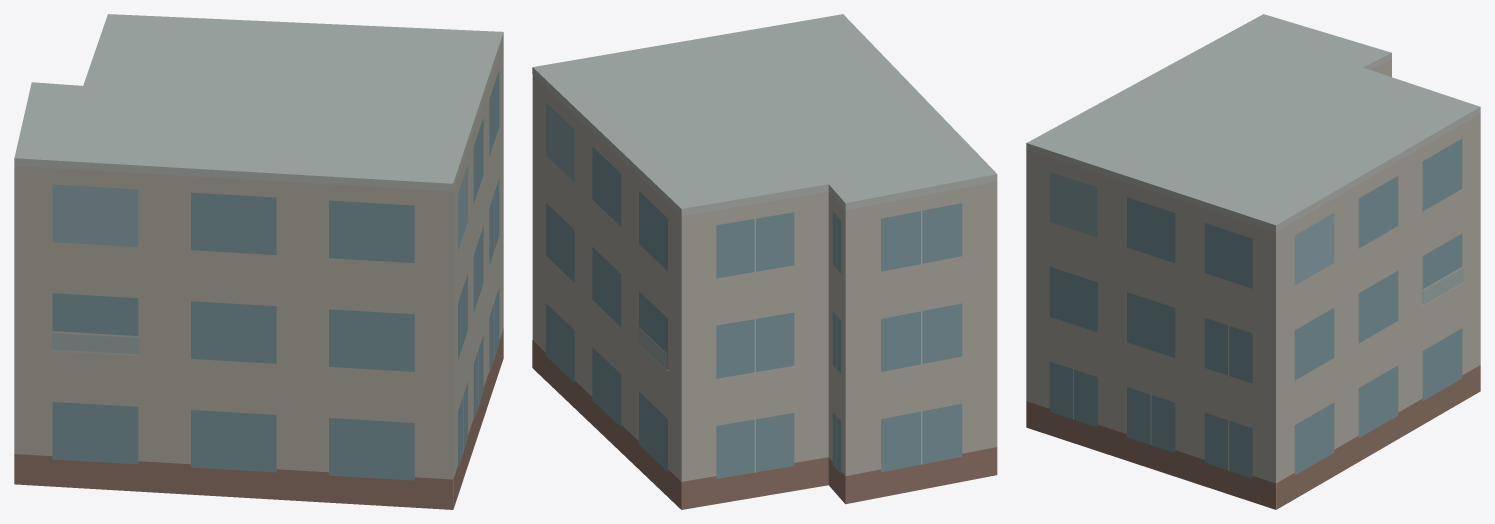
Rendered from survey-upis-33045128.glb.
3 renders of one model, left to right at view 1: azimuth 30°, elevation 25°; view 2: azimuth 150°, elevation 25°; view 3: azimuth 270°, elevation 25°, orthographic. The views are drawn at different scales.
Visible parts, largest first — view 1: survey-upis-33045128.tmp; view 2: survey-upis-33045128.tmp; view 3: survey-upis-33045128.tmp.
Part boxes in pixels (box(x1,y1,x2,y2)): survey-upis-33045128.tmp: box(14, 14, 503, 509); survey-upis-33045128.tmp: box(532, 14, 997, 509); survey-upis-33045128.tmp: box(1026, 14, 1480, 509).
Size of the model in its own units: 16.26 by 10.2 by 14.76.
